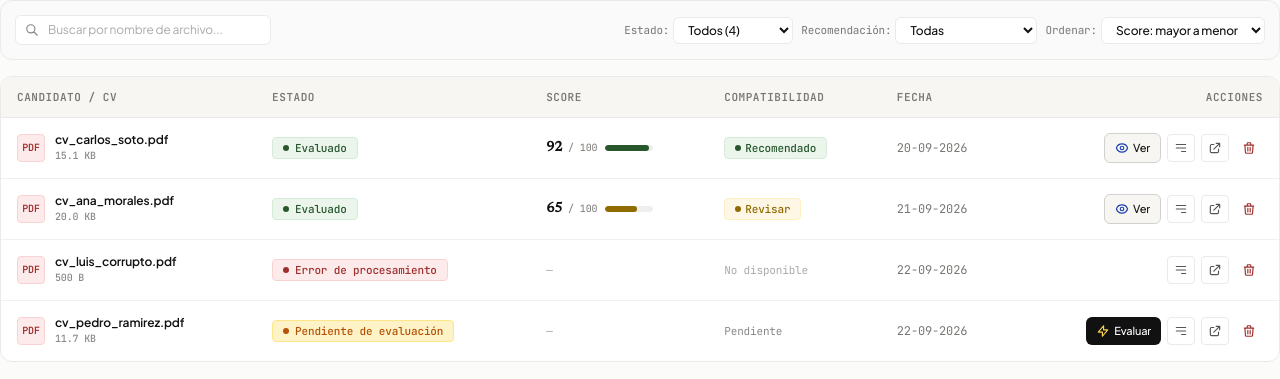
Test: Paso 5 — Dashboard y Visualización de Resultados › 7. El filtro por recomendación (Recomendado / Revisar) funciona correctamente
The image size is (1280, 379).
// comboboxes[1] is recommendation filter
Step 1. Select "Recomendado" in the dropdown next to "Recomendación:" → (966, 30), box [896, 16, 1038, 44]
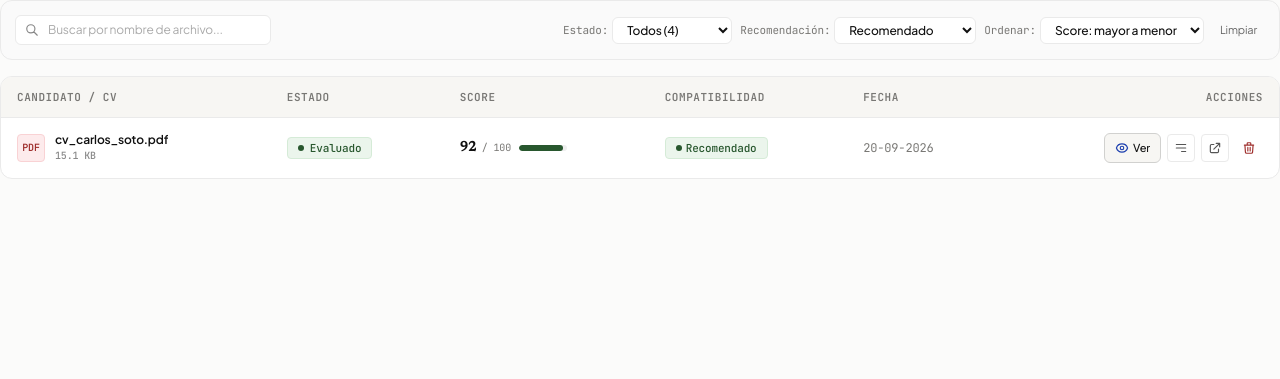
Expected: the text "cv_carlos_soto.pdf" is shown, [55, 132, 168, 148]
Now the text "cv_ana_morales.pdf" is gone
Now the text "cv_pedro_ramirez.pdf" is gone
